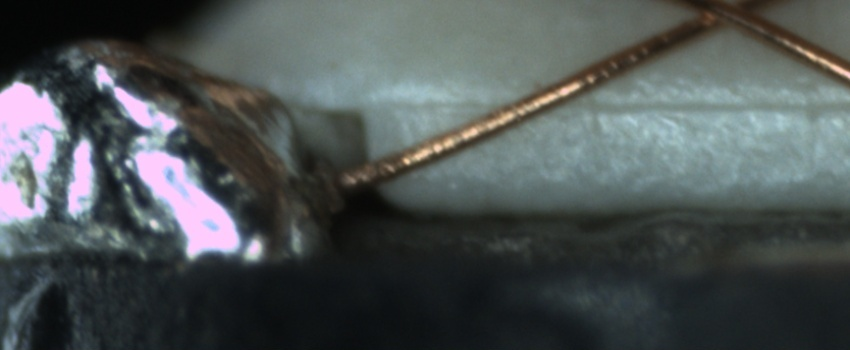CL: (673, 0, 784, 39)
DL: (378, 73, 850, 137)
